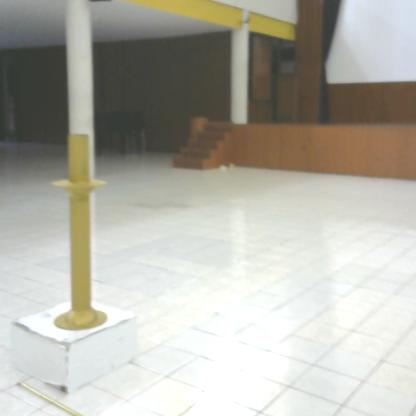pole: (48, 129, 114, 338)
